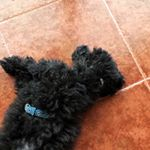puppy: (1, 42, 129, 149)
